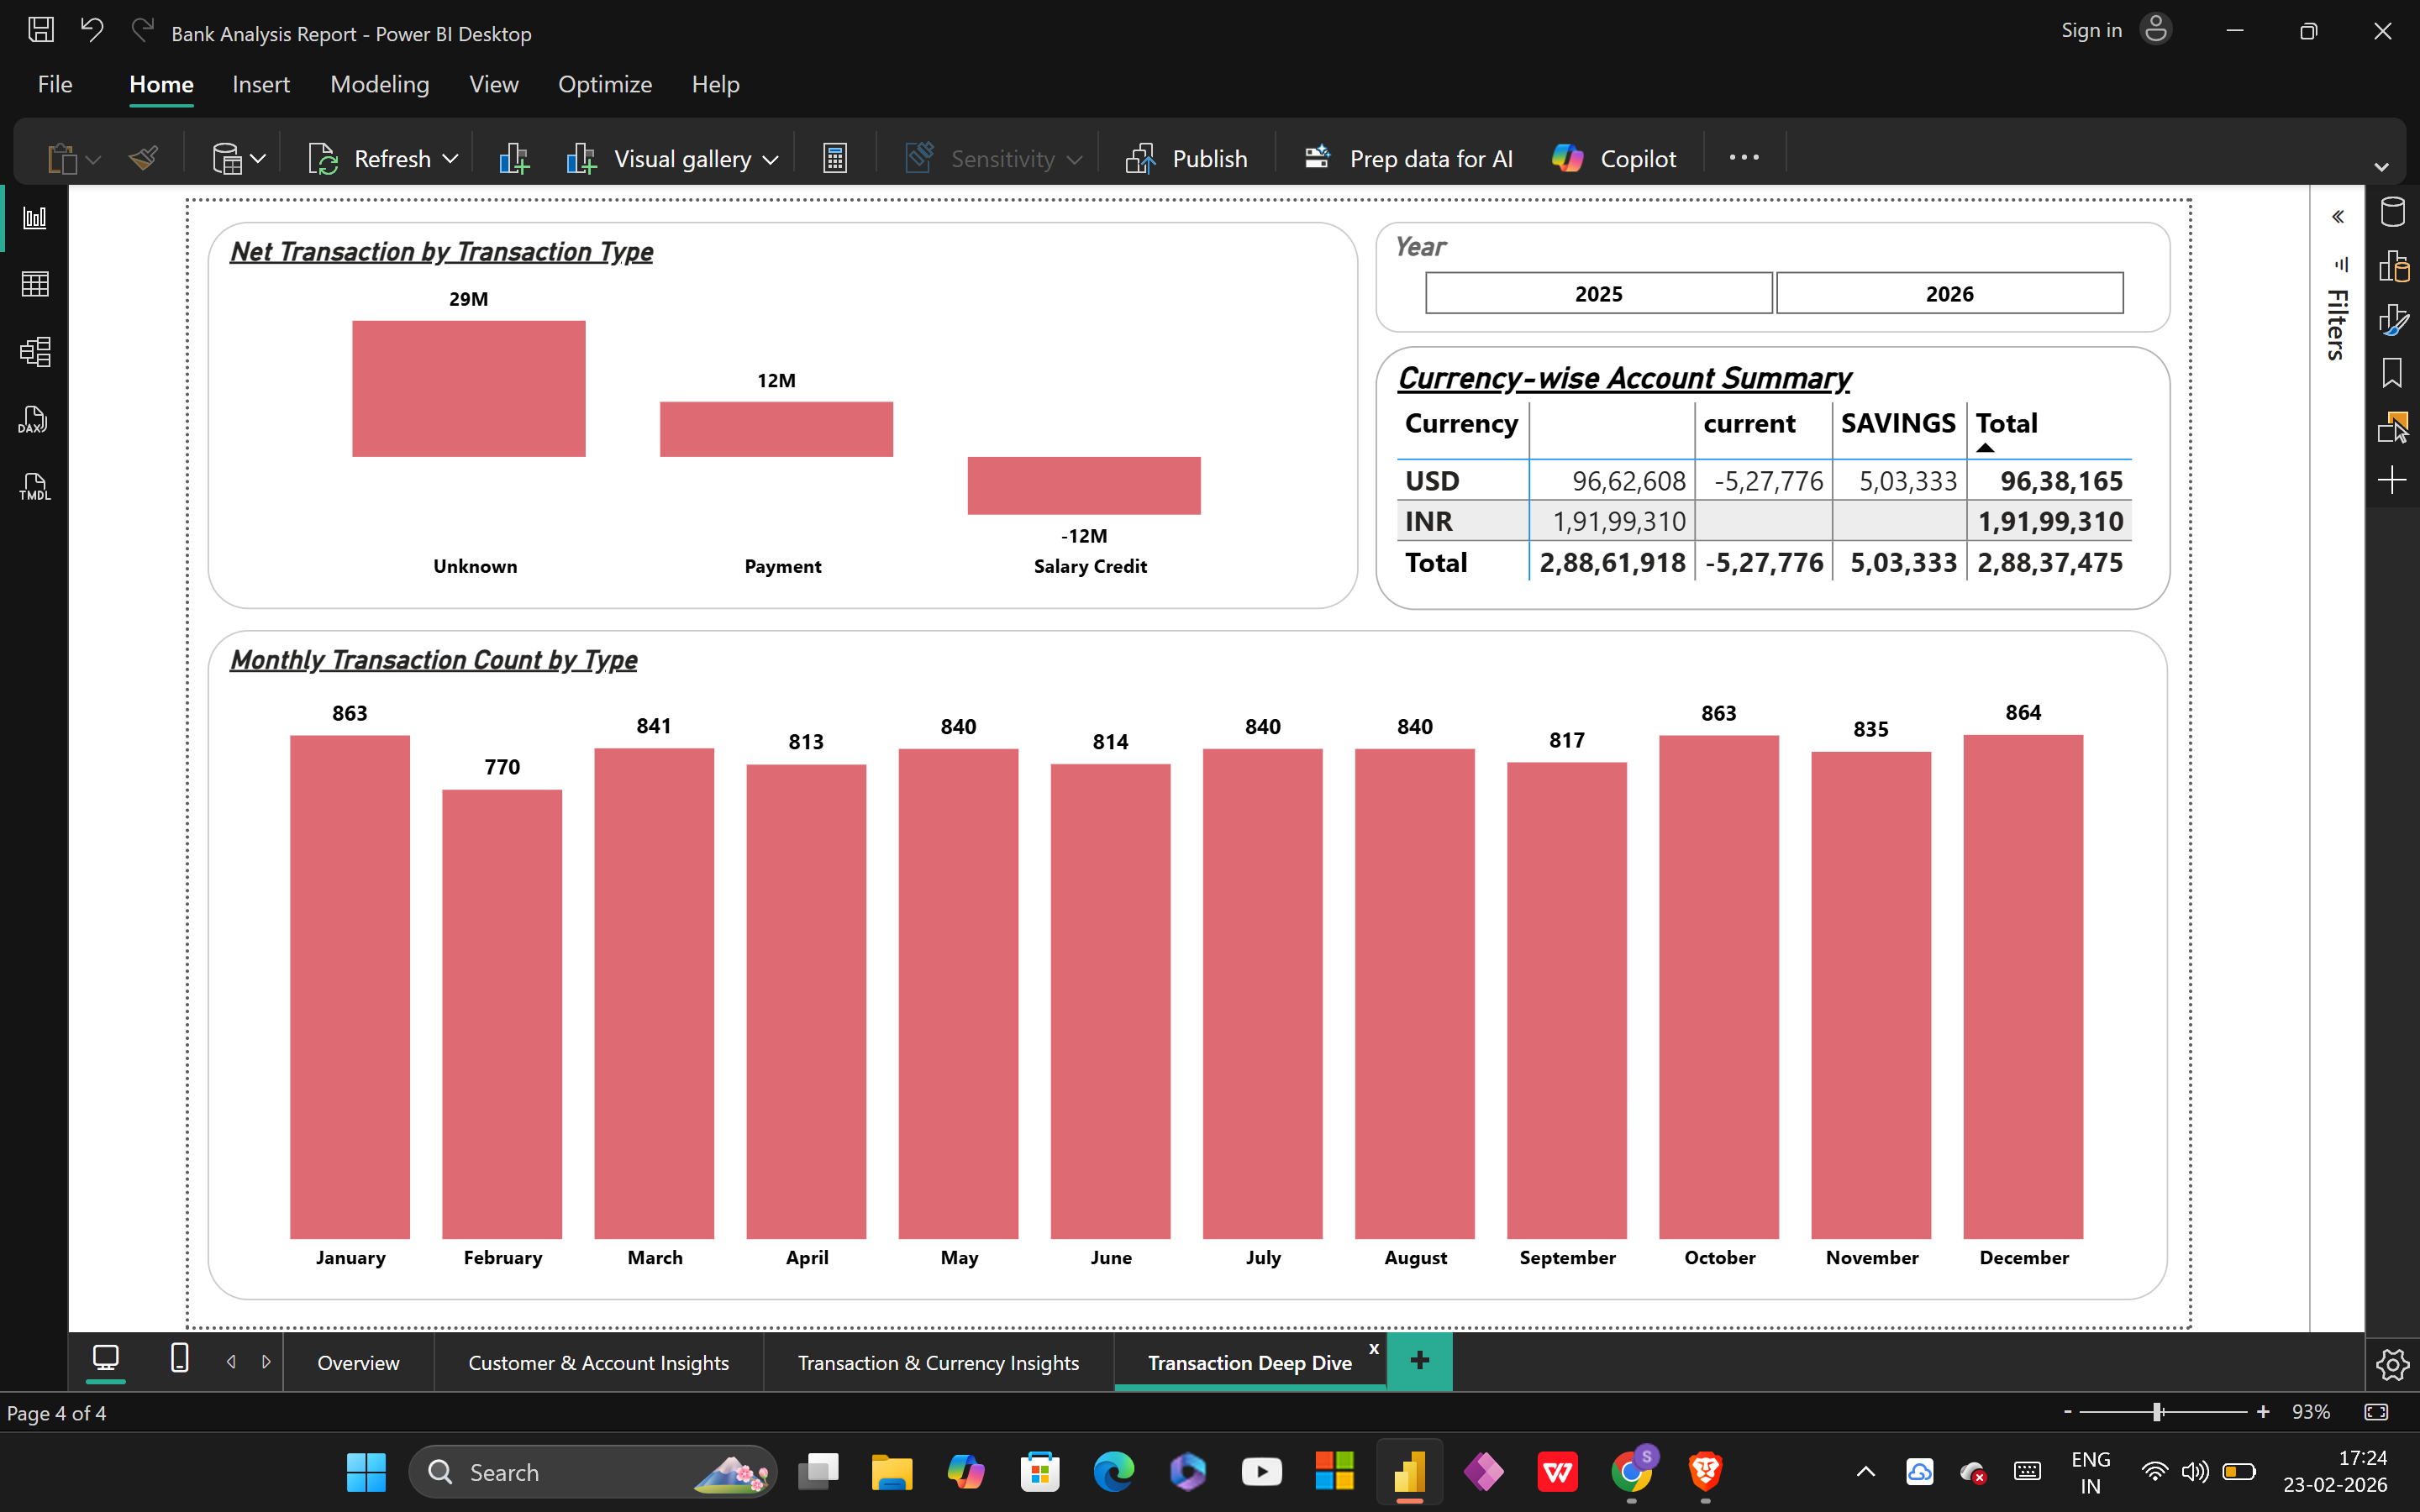

The page's visual inventory and layout, read from the dashboard file:
{"tool":"powerbi","page":{"name":"Transaction Deep Dive","canvas":[1280,720],"ordinal":3},"visuals":[{"type":"columnChart","title":"Monthly Transaction Count by Type","fields":{"Category":["DateTable.Month Name"],"Y":["CountNonNull(Transactions.Description)"]},"box":[12.2,274.4,1254.4,428.9],"z":0},{"type":"columnChart","title":"Net Transaction by Transaction Type","fields":{"Category":["Transactions.Description"],"Y":["Accounts.Net Transaction"]},"box":[12.2,13.3,736.7,247.8],"z":1000},{"type":"pivotTable","title":"Currency-wise Account Summary","fields":{"Rows":["Transactions.Currency"],"Columns":["Accounts.Type"],"Values":["Accounts.Net Transaction"]},"box":[758.9,92.2,508.9,168.9],"z":2000},{"type":"slicer","title":"Year","fields":{"Values":["DateTable.Year"]},"box":[758.9,13.3,508.9,71.1],"z":3000}]}

Visuals, with their boxes on the page's 1280x720 design canvas (x1, y1, x2, y2). These are canvas units, not pixel positions in the 2420x1512 screenshot, which may show the page scaled, cropped or inside an application window:
"Monthly Transaction Count by Type" columnChart: box(12, 274, 1267, 703)
"Net Transaction by Transaction Type" columnChart: box(12, 13, 749, 261)
"Currency-wise Account Summary" pivotTable: box(759, 92, 1268, 261)
"Year" slicer: box(759, 13, 1268, 84)
